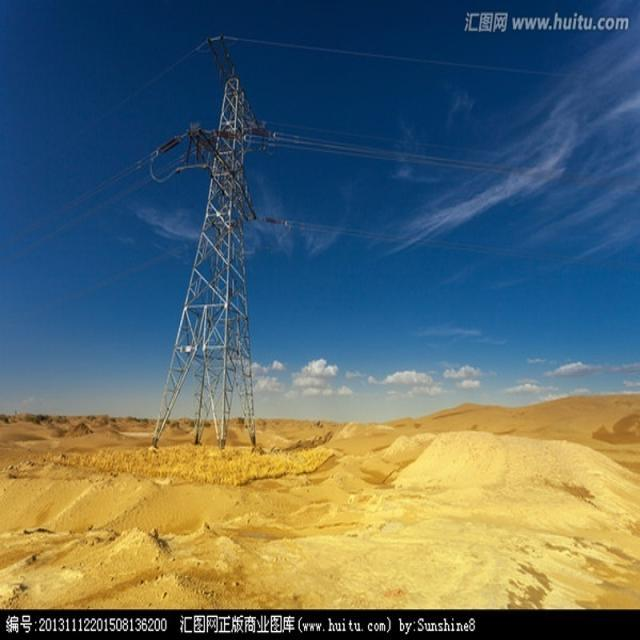non-critical vegetation: (154, 61, 264, 456)
